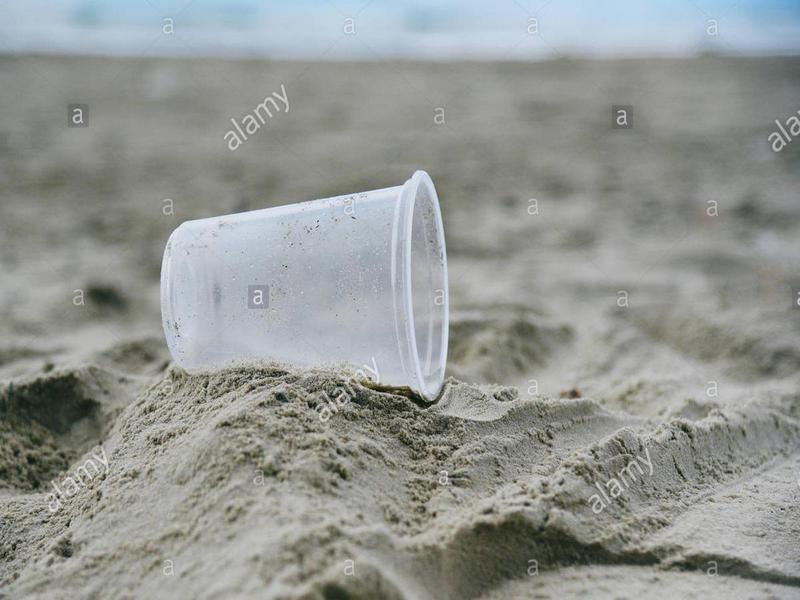cup: (152, 170, 460, 410)
